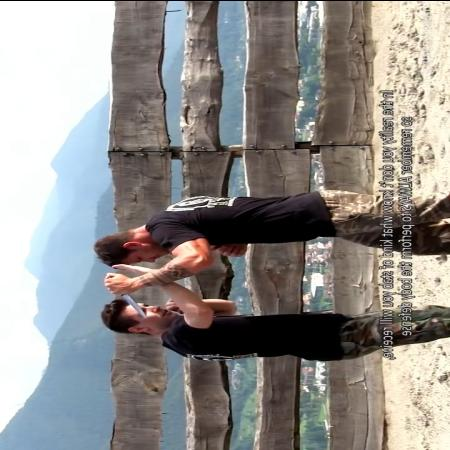long weapon: (102, 272, 146, 318)
